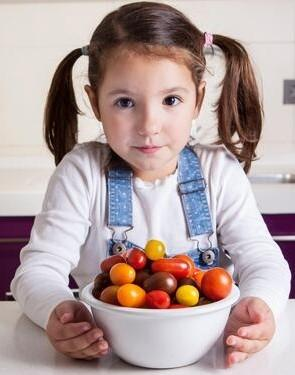Healthy: (74, 6, 235, 188)
